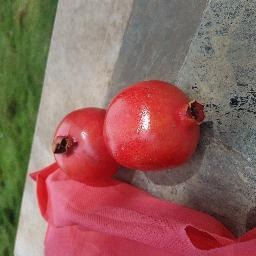Good_pomegranate: (102, 77, 210, 172), (56, 108, 120, 184)
